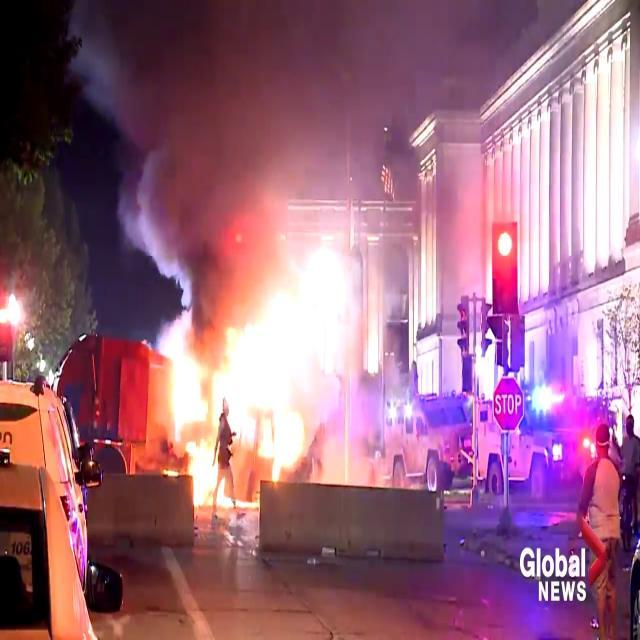Fire: (158, 235, 359, 508)
Smoke: (85, 1, 396, 266)
